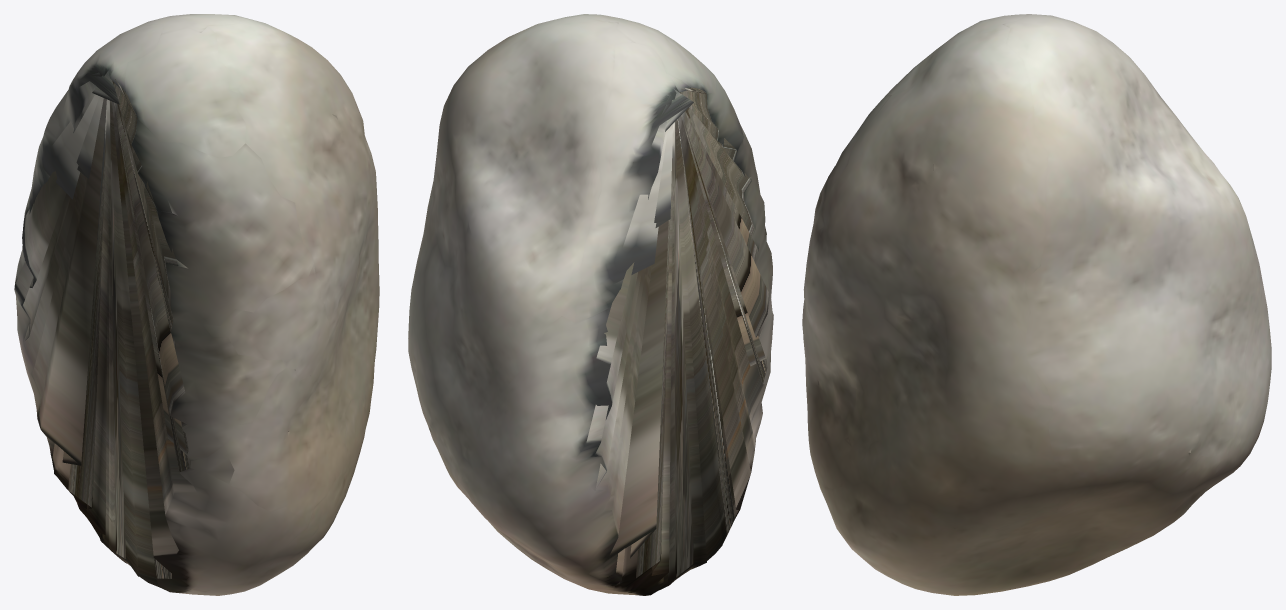
Rendered from stein1.fbx.
3 renders of one model, left to right at view 1: azimuth 30°, elevation 25°; view 2: azimuth 150°, elevation 25°; view 3: azimuth 270°, elevation 25°, orthographic. The views are drawn at different scales.
Visible parts, largest first — view 1: Polygon; view 2: Polygon; view 3: Polygon.
Boxes of the visible parts, left/top/right/bottom form: Polygon: left=14, top=14, right=379, bottom=595; Polygon: left=408, top=14, right=773, bottom=595; Polygon: left=802, top=14, right=1271, bottom=595.
Bounding box in the file's own units: 12.94 × 25.69 × 19.02.
Materials: 1 (1 with a texture image).
